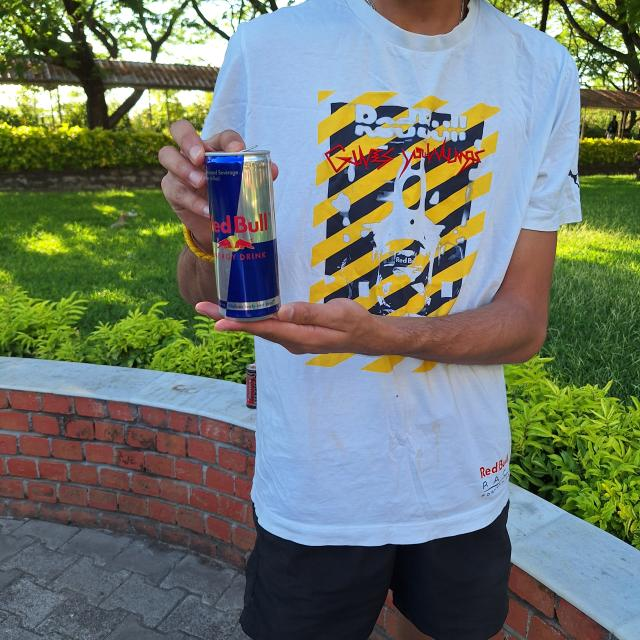Redbul: (200, 147, 282, 320)
